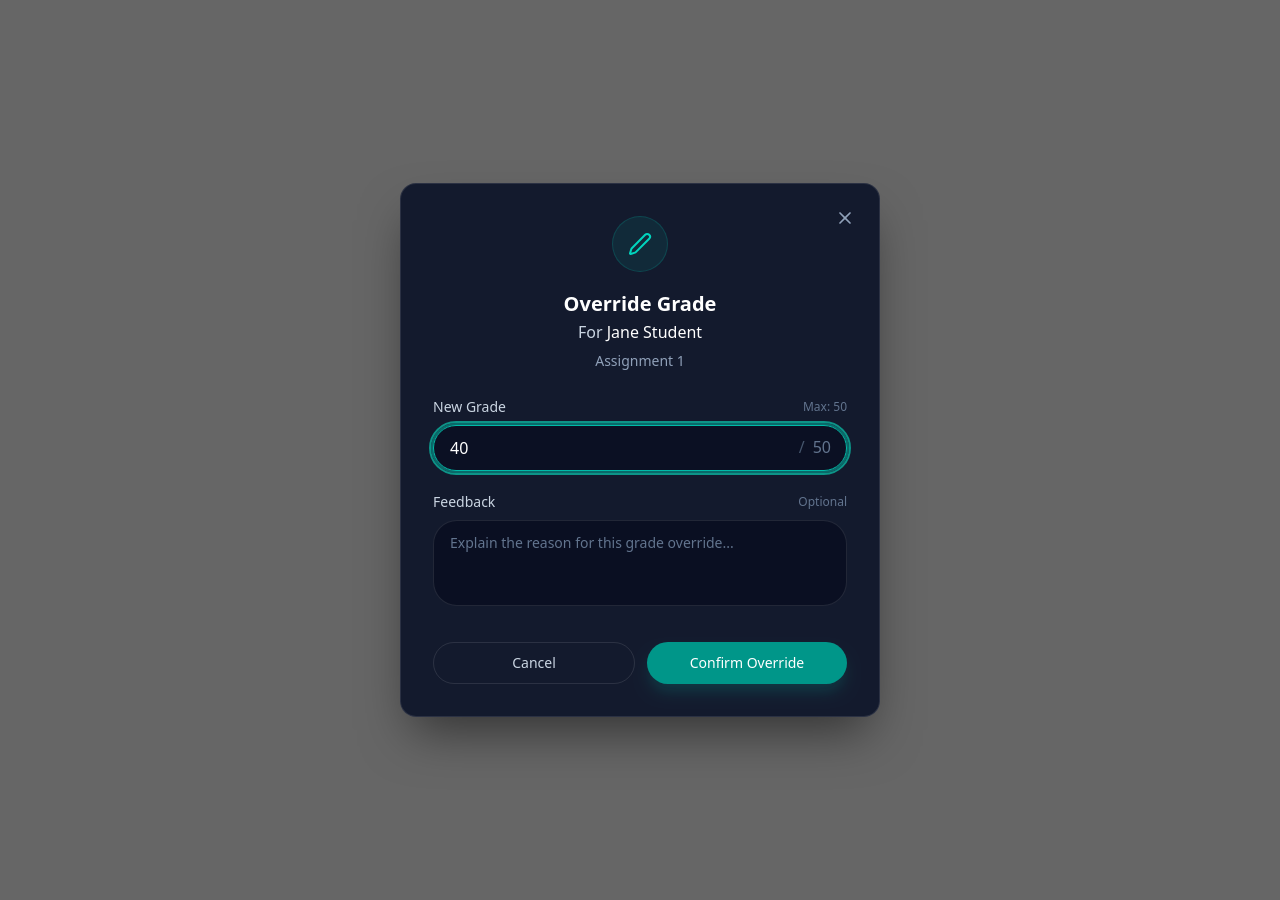
Scenario: GradeOverrideModal › shows validation error when grade is out of range
Replace the text in the number field labelled "New Grade Max: 50" with "51" at coordinates (640, 448), box [433,425,847,471]
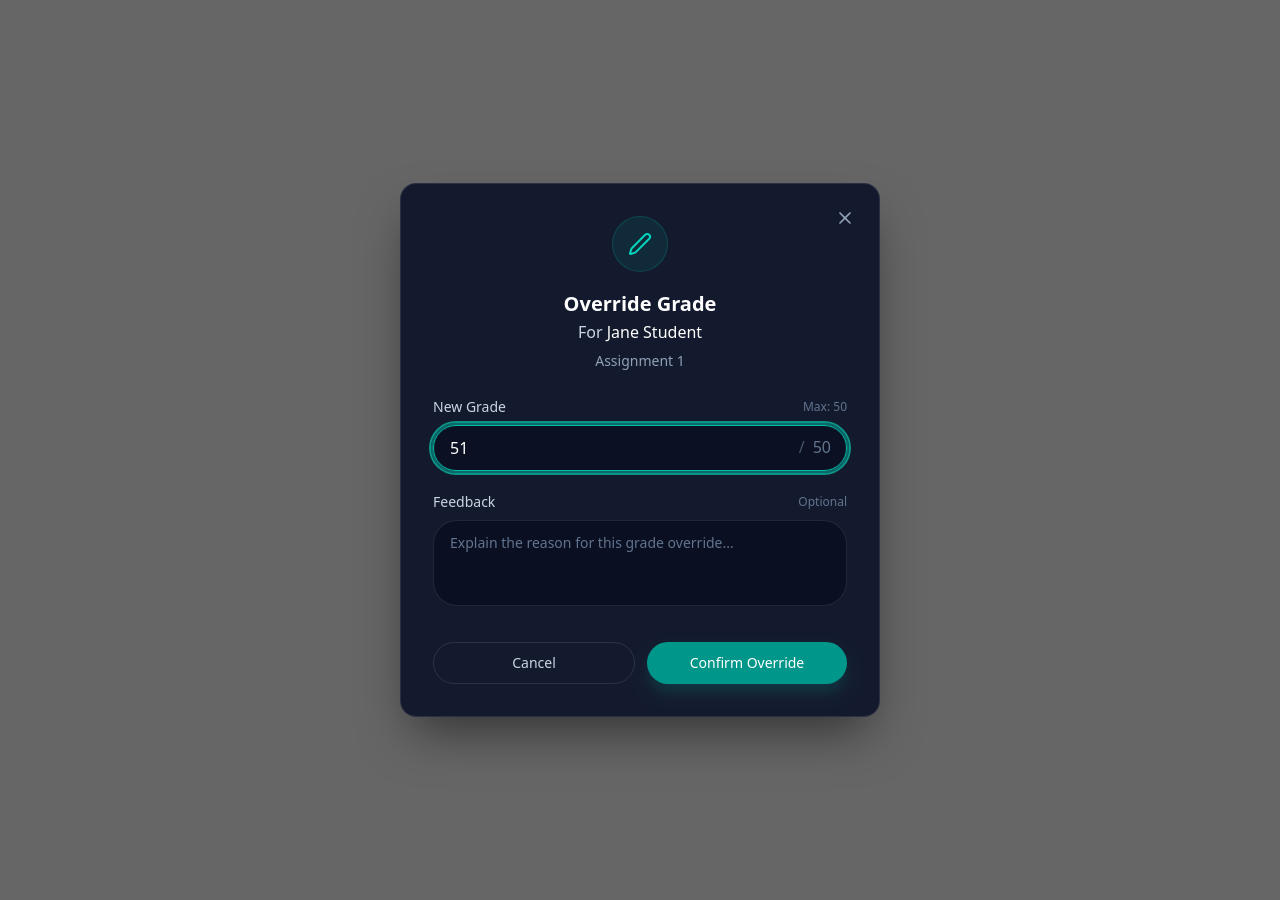
Click the button "Confirm Override" at coordinates (747, 663), box [647,642,847,684]
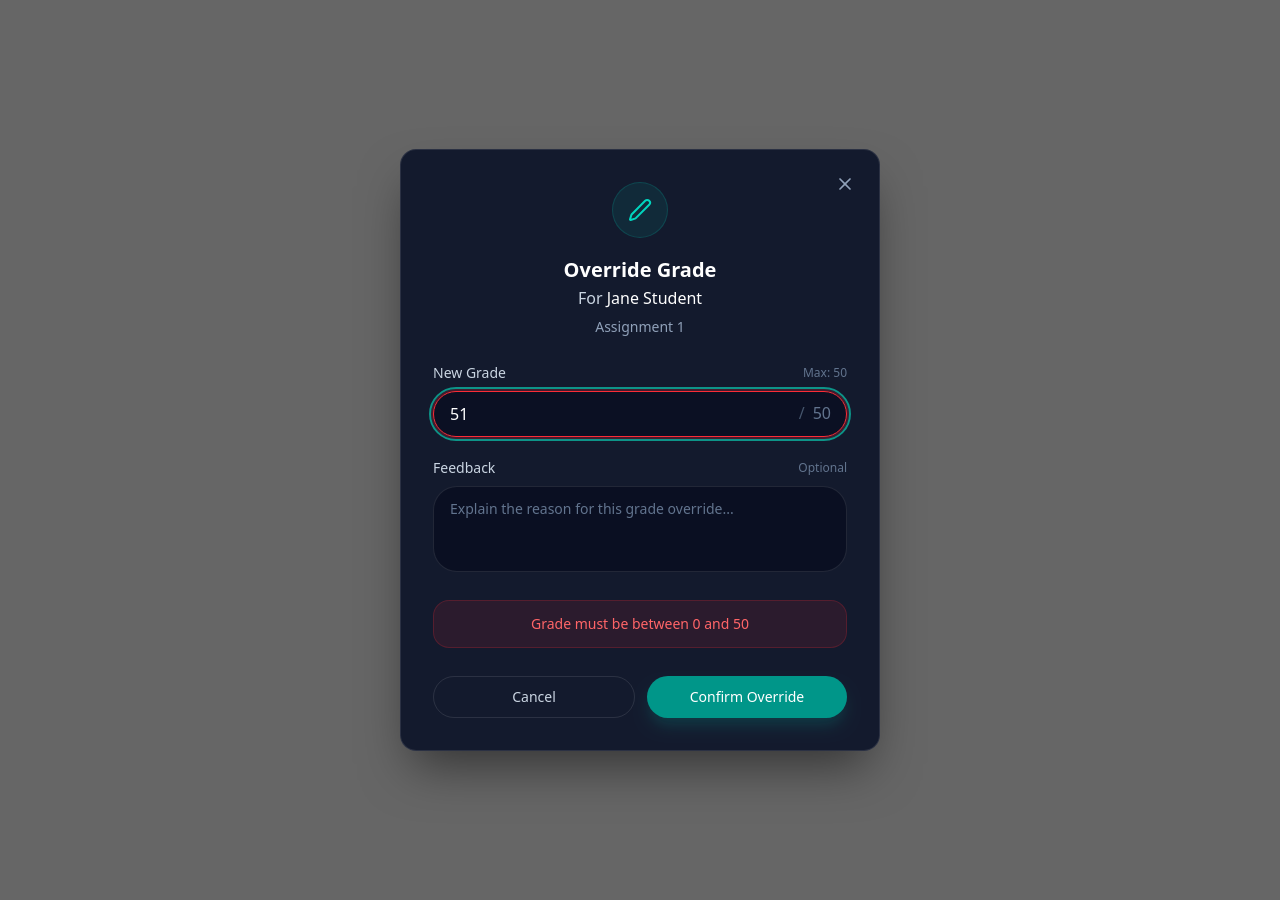
Expected: the text "Grade must be between 0 and 50" is shown, [531,614,749,633]
